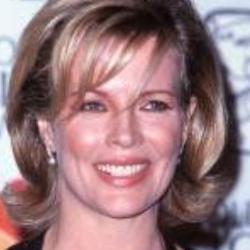face: (7, 1, 229, 238)
